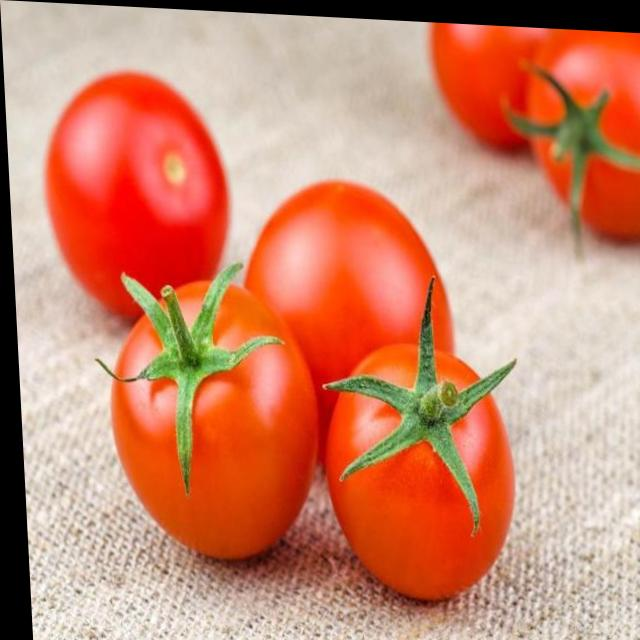kirmizi: (59, 82, 556, 568)
